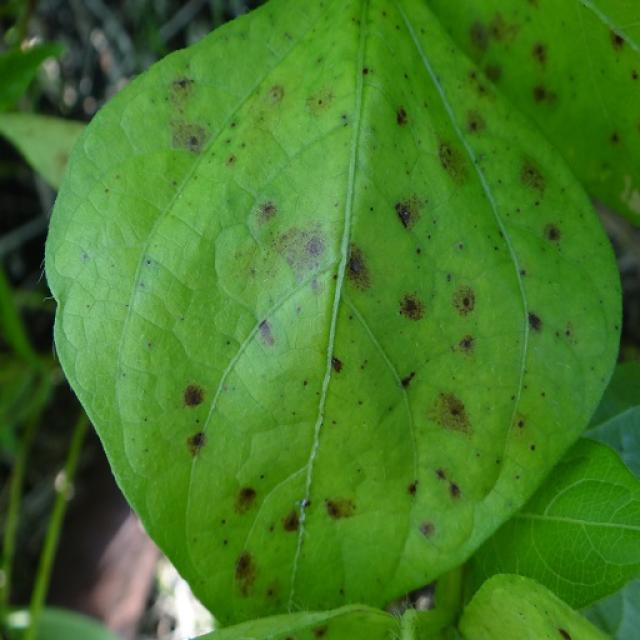Anthracnose: (274, 224, 329, 279), (425, 388, 474, 435), (344, 245, 375, 292), (393, 289, 428, 326), (484, 11, 518, 49), (438, 141, 468, 183), (170, 121, 209, 153), (519, 159, 547, 196), (305, 86, 337, 118), (167, 77, 197, 110), (433, 467, 463, 500), (451, 285, 477, 316), (182, 382, 207, 409), (469, 20, 490, 50), (186, 431, 208, 458), (465, 108, 487, 135), (394, 202, 414, 229), (542, 222, 563, 245), (263, 85, 284, 108), (237, 486, 257, 508), (235, 554, 253, 578), (511, 411, 529, 435), (484, 63, 503, 85), (282, 512, 299, 533), (532, 43, 547, 64), (533, 85, 550, 103), (457, 335, 475, 352), (527, 312, 542, 332), (257, 318, 272, 337), (400, 371, 416, 388), (395, 106, 409, 125), (260, 202, 276, 218), (326, 501, 340, 519), (611, 32, 625, 50), (57, 151, 70, 170), (420, 522, 435, 538), (174, 77, 191, 91), (330, 356, 343, 374), (407, 480, 418, 496), (350, 259, 362, 273), (313, 625, 327, 637), (435, 468, 447, 481), (225, 154, 236, 166), (610, 131, 620, 144), (82, 252, 89, 261), (362, 67, 369, 75), (415, 247, 422, 255), (564, 329, 571, 337), (446, 273, 452, 282), (519, 269, 526, 276), (636, 70, 640, 81), (530, 444, 536, 451), (458, 243, 464, 250), (139, 282, 145, 288), (223, 539, 228, 546), (147, 342, 152, 348), (146, 259, 151, 265), (369, 206, 374, 212), (226, 340, 231, 345)
Blackgram: (46, 0, 620, 624)
